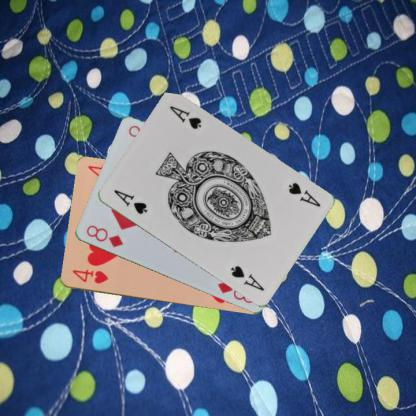4h: (70, 267, 110, 285)
8d: (83, 222, 124, 249)
As: (111, 187, 148, 216), (285, 180, 321, 209)
